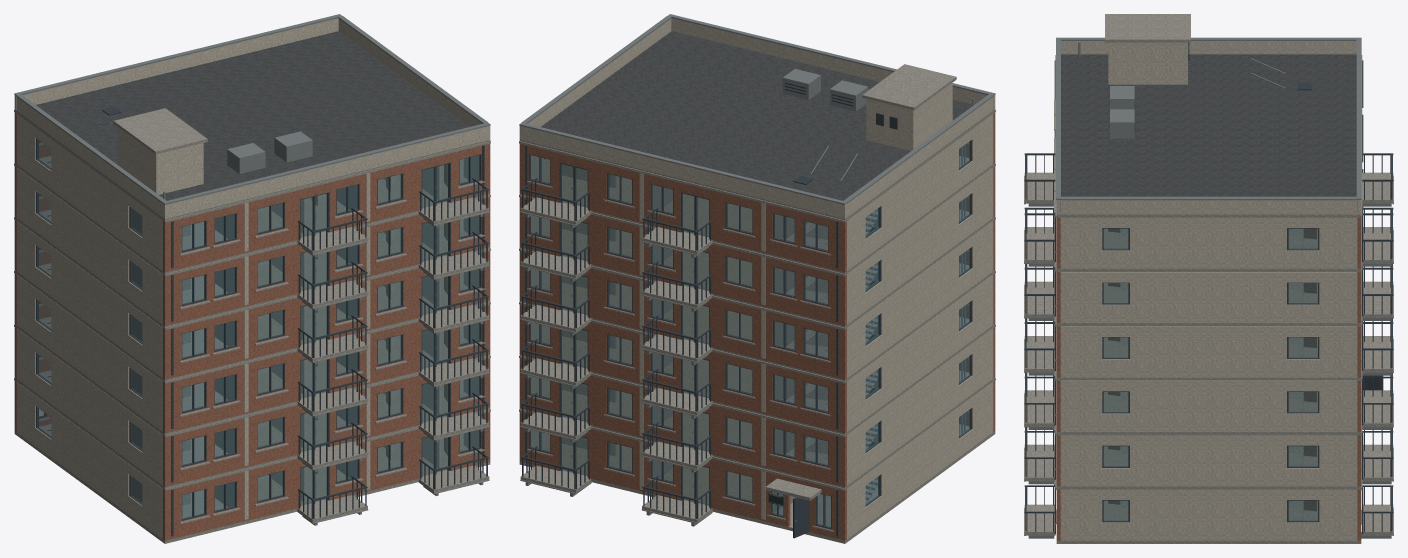
Rendered from MIDRISE_local.glb.
3 views of the same model, side by side, from view 1: azimuth 30°, elevation 25°; view 2: azimuth 150°, elevation 25°; view 3: azimuth 270°, elevation 25° (orthographic).
Parts seen in each view (by area): view 1: STORY_07_ROOF_RoofWaterproofing, STORY_07_ROOF_Parapet_NonBaked, STORY_06_BackRedBrick_TrueWindowAndDoorApertures, STORY_02_BackRedBrick_TrueWindowAndDoorApertures, STORY_04_BackRedBrick_TrueWindowAndDoorApertures, STORY_05_BackRedBrick_TrueWindowAndDoorApertures, STORY_03_BackRedBrick_TrueWindowAndDoorApertures, STORY_01_BackRedBrick_TrueWindowAndDoorApertures, STORY_02_WestConcreteEndWall, STORY_03_WestConcreteEndWall, STORY_01_WestConcreteEndWall, STORY_05_WestConcreteEndWall (+61 smaller); view 2: STORY_07_ROOF_RoofWaterproofing, STORY_07_ROOF_Parapet_NonBaked, STORY_06_FrontRedBrick_TrueWindowAndDoorApertures, STORY_03_FrontRedBrick_TrueWindowAndDoorApertures, STORY_04_FrontRedBrick_TrueWindowAndDoorApertures, STORY_02_FrontRedBrick_TrueWindowAndDoorApertures, STORY_05_FrontRedBrick_TrueWindowAndDoorApertures, STORY_01_FrontRedBrick_TrueWindowAndDoorApertures, STORY_02_WestConcreteEndWall, STORY_05_WestConcreteEndWall, STORY_01_WestConcreteEndWall, STORY_03_WestConcreteEndWall (+58 smaller); view 3: STORY_07_ROOF_RoofWaterproofing, STORY_03_EastConcreteEndWall, STORY_01_EastConcreteEndWall, STORY_02_EastConcreteEndWall, STORY_04_EastConcreteEndWall, STORY_06_EastConcreteEndWall, STORY_05_EastConcreteEndWall, STORY_07_ROOF_Parapet_NonBaked, STORY_07_ROOF_ParapetMetalCoping, STORY_07_ROOF_LiftMachineHousing, STORY_07_ROOF_MachineHousingCap, STORY_07_ROOF_HVACCondenserUnits (+41 smaller).
Part boxes in pixels (bbox=[...]): STORY_07_ROOF_RoofWaterproofing: bbox=[36, 31, 468, 200]; STORY_07_ROOF_Parapet_NonBaked: bbox=[14, 18, 490, 218]; STORY_06_BackRedBrick_TrueWindowAndDoorApertures: bbox=[163, 143, 490, 272]; STORY_02_BackRedBrick_TrueWindowAndDoorApertures: bbox=[163, 358, 490, 486]; STORY_04_BackRedBrick_TrueWindowAndDoorApertures: bbox=[163, 251, 490, 379]; STORY_05_BackRedBrick_TrueWindowAndDoorApertures: bbox=[163, 197, 490, 325]; STORY_03_BackRedBrick_TrueWindowAndDoorApertures: bbox=[163, 304, 490, 433]; STORY_01_BackRedBrick_TrueWindowAndDoorApertures: bbox=[163, 412, 490, 540]; STORY_02_WestConcreteEndWall: bbox=[16, 328, 162, 485]; STORY_03_WestConcreteEndWall: bbox=[16, 275, 162, 431]; STORY_01_WestConcreteEndWall: bbox=[16, 382, 162, 538]; STORY_05_WestConcreteEndWall: bbox=[16, 168, 162, 324]; STORY_07_ROOF_RoofWaterproofing: bbox=[541, 31, 972, 200]; STORY_07_ROOF_Parapet_NonBaked: bbox=[519, 18, 995, 218]; STORY_06_FrontRedBrick_TrueWindowAndDoorApertures: bbox=[519, 143, 846, 272]; STORY_03_FrontRedBrick_TrueWindowAndDoorApertures: bbox=[519, 304, 846, 433]; STORY_04_FrontRedBrick_TrueWindowAndDoorApertures: bbox=[519, 251, 846, 379]; STORY_02_FrontRedBrick_TrueWindowAndDoorApertures: bbox=[519, 358, 846, 486]; STORY_05_FrontRedBrick_TrueWindowAndDoorApertures: bbox=[519, 197, 846, 325]; STORY_01_FrontRedBrick_TrueWindowAndDoorApertures: bbox=[519, 412, 846, 540]; STORY_02_WestConcreteEndWall: bbox=[847, 328, 993, 485]; STORY_05_WestConcreteEndWall: bbox=[847, 168, 993, 324]; STORY_01_WestConcreteEndWall: bbox=[847, 382, 993, 538]; STORY_03_WestConcreteEndWall: bbox=[847, 275, 993, 431]; STORY_07_ROOF_RoofWaterproofing: bbox=[1060, 54, 1357, 212]; STORY_03_EastConcreteEndWall: bbox=[1060, 380, 1357, 431]; STORY_01_EastConcreteEndWall: bbox=[1060, 489, 1357, 540]; STORY_02_EastConcreteEndWall: bbox=[1060, 435, 1357, 486]; STORY_04_EastConcreteEndWall: bbox=[1060, 326, 1357, 377]; STORY_06_EastConcreteEndWall: bbox=[1060, 217, 1357, 268]; STORY_05_EastConcreteEndWall: bbox=[1060, 272, 1357, 322]; STORY_07_ROOF_Parapet_NonBaked: bbox=[1056, 41, 1361, 214]; STORY_07_ROOF_ParapetMetalCoping: bbox=[1056, 37, 1361, 200]; STORY_07_ROOF_LiftMachineHousing: bbox=[1108, 42, 1187, 84]; STORY_07_ROOF_MachineHousingCap: bbox=[1105, 14, 1190, 42]; STORY_07_ROOF_HVACCondenserUnits: bbox=[1110, 86, 1134, 138].
Size of the model in its own units: 20.04 by 22.08 by 19.41.
10 materials, 10 textured.
